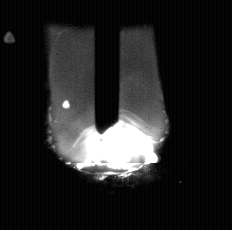arame: (95, 0, 121, 134)
poca: (54, 0, 154, 230)
